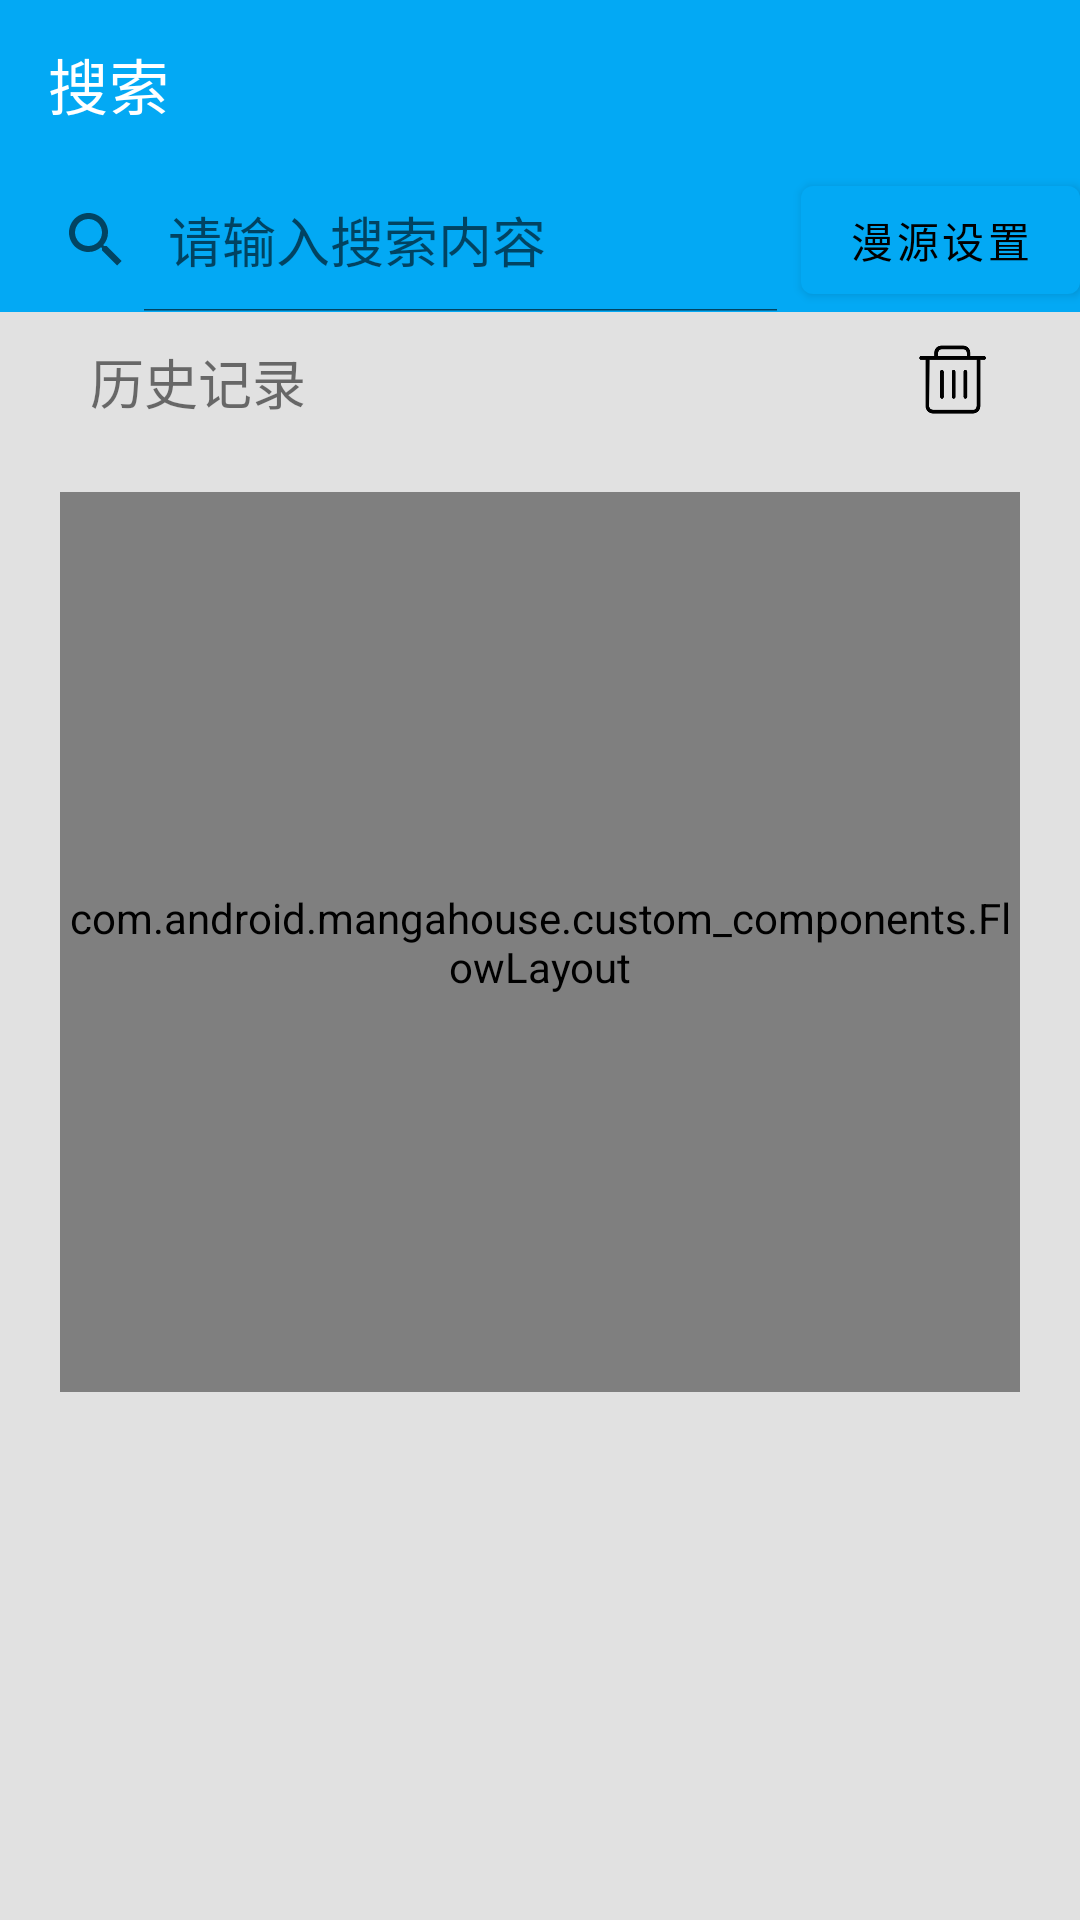

Screen size 1080px×1920px. Icon name, then its center in pixels as (x,y):
delete: (952,379)
